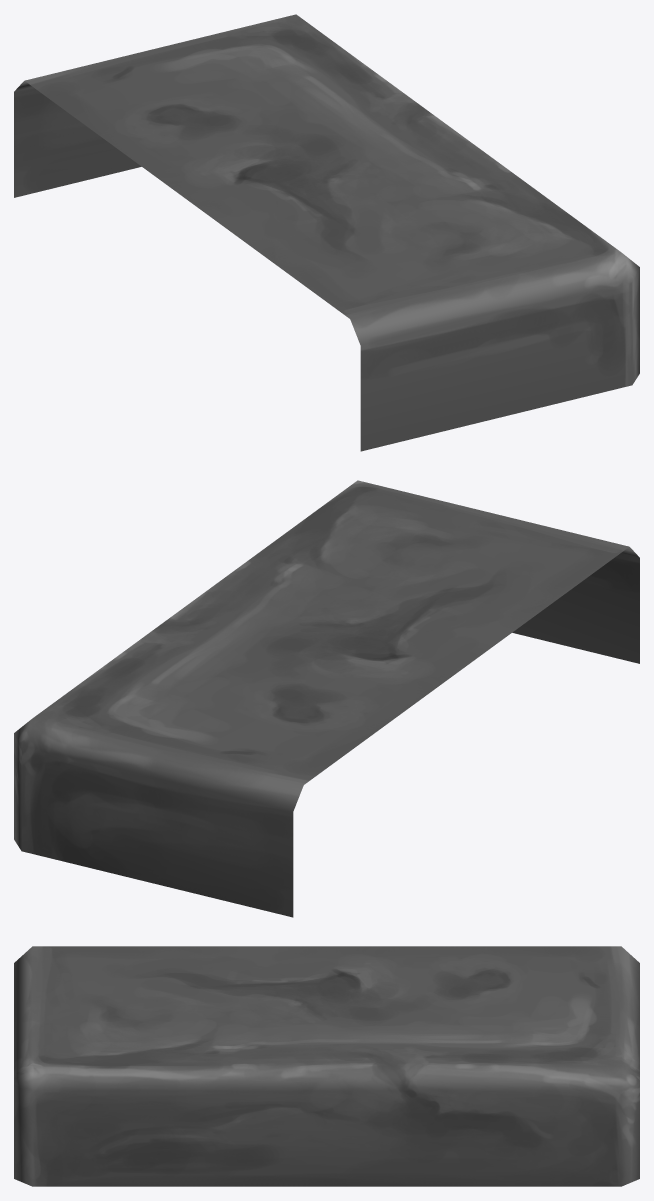
Rendered from M_Step1.fbx.
3 views of the same model, one above another, from view 1: azimuth 30°, elevation 25°; view 2: azimuth 150°, elevation 25°; view 3: azimuth 270°, elevation 25° (orthographic). The views are drawn at different scales.
Parts seen in each view (by area): view 1: M_Step1; view 2: M_Step1; view 3: M_Step1.
Boxes of the visible parts, x1,y1,x2,y2 form: M_Step1: [14, 14, 639, 451]; M_Step1: [14, 480, 639, 917]; M_Step1: [14, 946, 639, 1186].
Size of the model in its own units: 1.17 by 0.4833 by 2.43.
